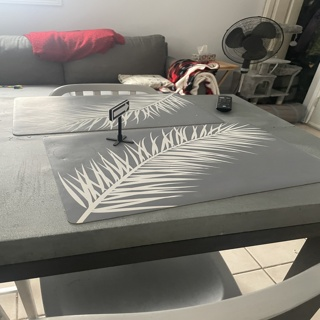sign_oneway_right: (105, 103, 129, 115)
